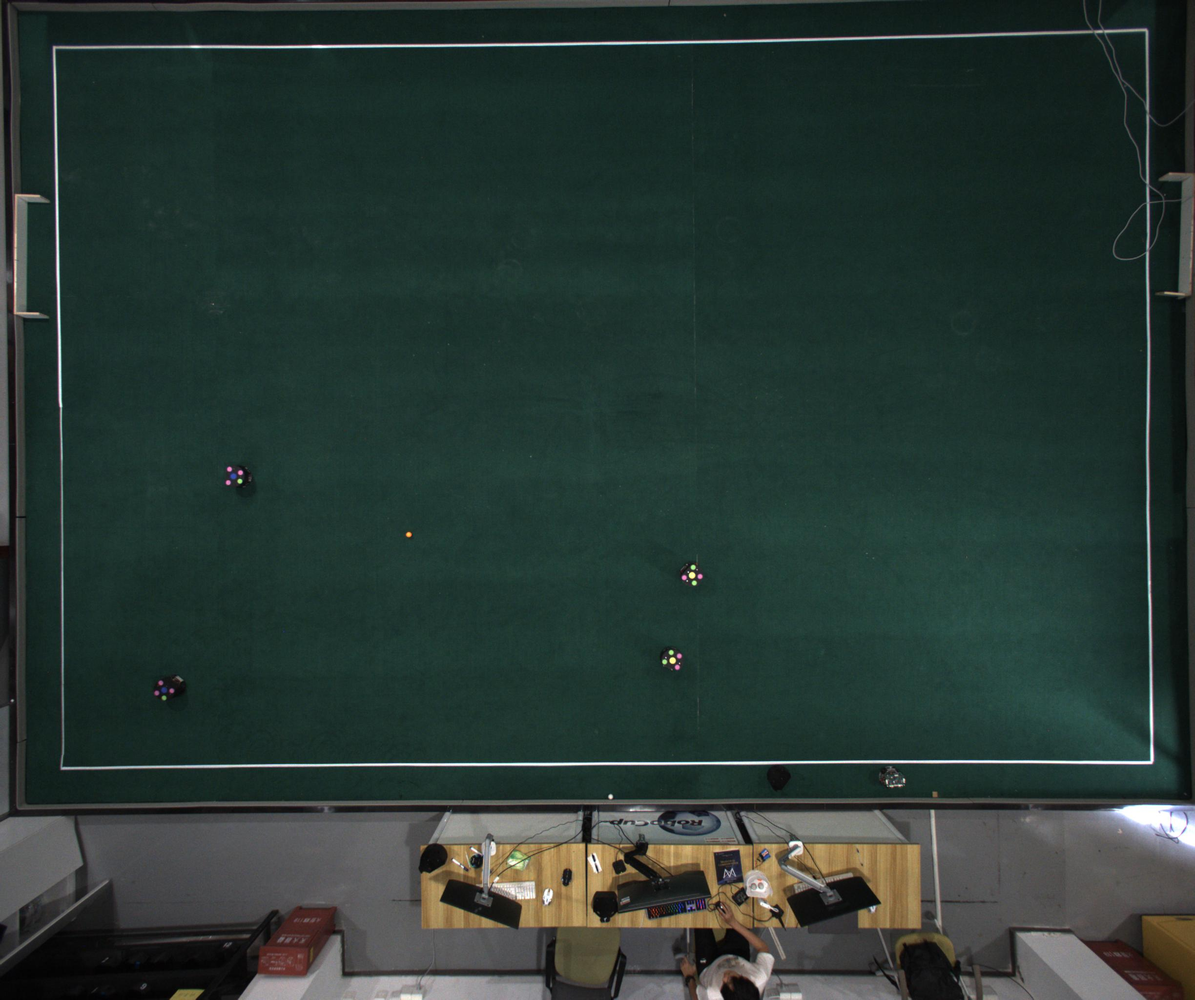ball: (406, 531, 412, 538)
blue_bot: (153, 677, 178, 704), (225, 464, 246, 488)
yellow_bot: (661, 647, 685, 672), (681, 562, 703, 588)
